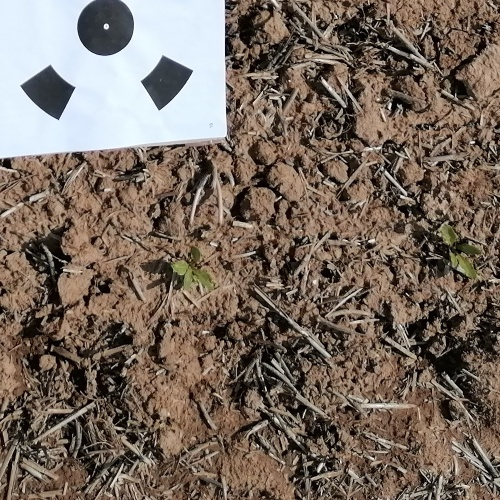beet: (440, 223, 481, 278), (171, 248, 218, 288)
